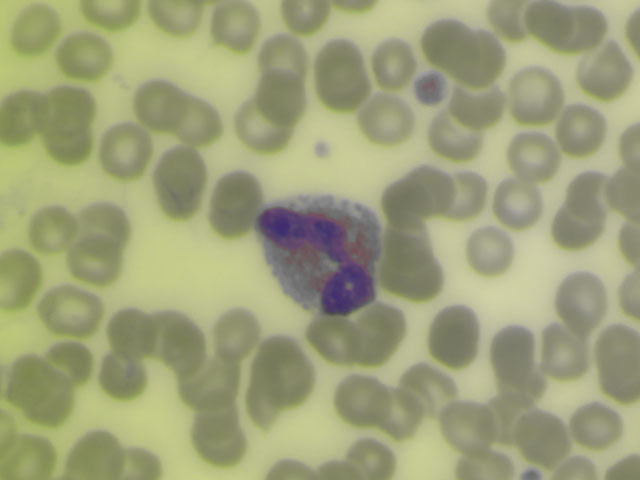Platelets: (414, 70, 446, 107), (308, 138, 336, 162)
RBC: (187, 356, 235, 407), (334, 374, 383, 423), (256, 333, 305, 382), (96, 348, 142, 400), (194, 421, 241, 469), (190, 391, 239, 437), (46, 291, 95, 334), (350, 433, 394, 480), (70, 433, 114, 480), (8, 433, 52, 480), (150, 1, 209, 36), (469, 226, 513, 272), (510, 131, 554, 177), (559, 106, 603, 152), (583, 48, 627, 94), (514, 70, 558, 116), (434, 113, 478, 159), (459, 75, 503, 121), (459, 33, 503, 79), (428, 18, 472, 64), (433, 310, 477, 356), (407, 368, 451, 414), (376, 384, 420, 430), (359, 310, 403, 356), (309, 320, 353, 366), (269, 368, 313, 414), (215, 310, 259, 356), (162, 324, 206, 370), (153, 310, 197, 356), (108, 307, 152, 353), (45, 342, 89, 388), (31, 380, 75, 426), (4, 353, 48, 399), (365, 98, 409, 144), (321, 62, 365, 108), (318, 40, 362, 86), (239, 100, 283, 146), (258, 74, 302, 120), (261, 33, 305, 79), (210, 1, 254, 47), (69, 239, 113, 285), (79, 202, 123, 248), (26, 206, 70, 252), (211, 176, 255, 222), (158, 147, 202, 193), (174, 94, 218, 140), (135, 80, 179, 126), (103, 126, 147, 172), (43, 119, 87, 165), (46, 85, 90, 131), (61, 31, 105, 77), (11, 4, 55, 50), (596, 369, 640, 415), (596, 323, 640, 369), (560, 277, 604, 323), (542, 334, 586, 380), (574, 402, 618, 448), (490, 325, 534, 371), (524, 416, 568, 462), (489, 395, 533, 441), (447, 404, 491, 450), (390, 255, 434, 301), (380, 223, 424, 269), (378, 180, 422, 226), (407, 165, 451, 211), (549, 206, 593, 252), (571, 170, 615, 216), (445, 171, 489, 217), (498, 177, 542, 223), (535, 1, 579, 46), (1, 259, 44, 305), (1, 91, 44, 137), (372, 41, 416, 82), (78, 1, 140, 29), (503, 368, 543, 406), (266, 454, 324, 480), (279, 1, 328, 31), (461, 453, 515, 480), (119, 448, 163, 480), (612, 216, 640, 266), (573, 1, 606, 43), (491, 1, 530, 36), (605, 171, 640, 210), (616, 121, 640, 170), (617, 276, 640, 318)
WBC: (256, 195, 382, 317)
